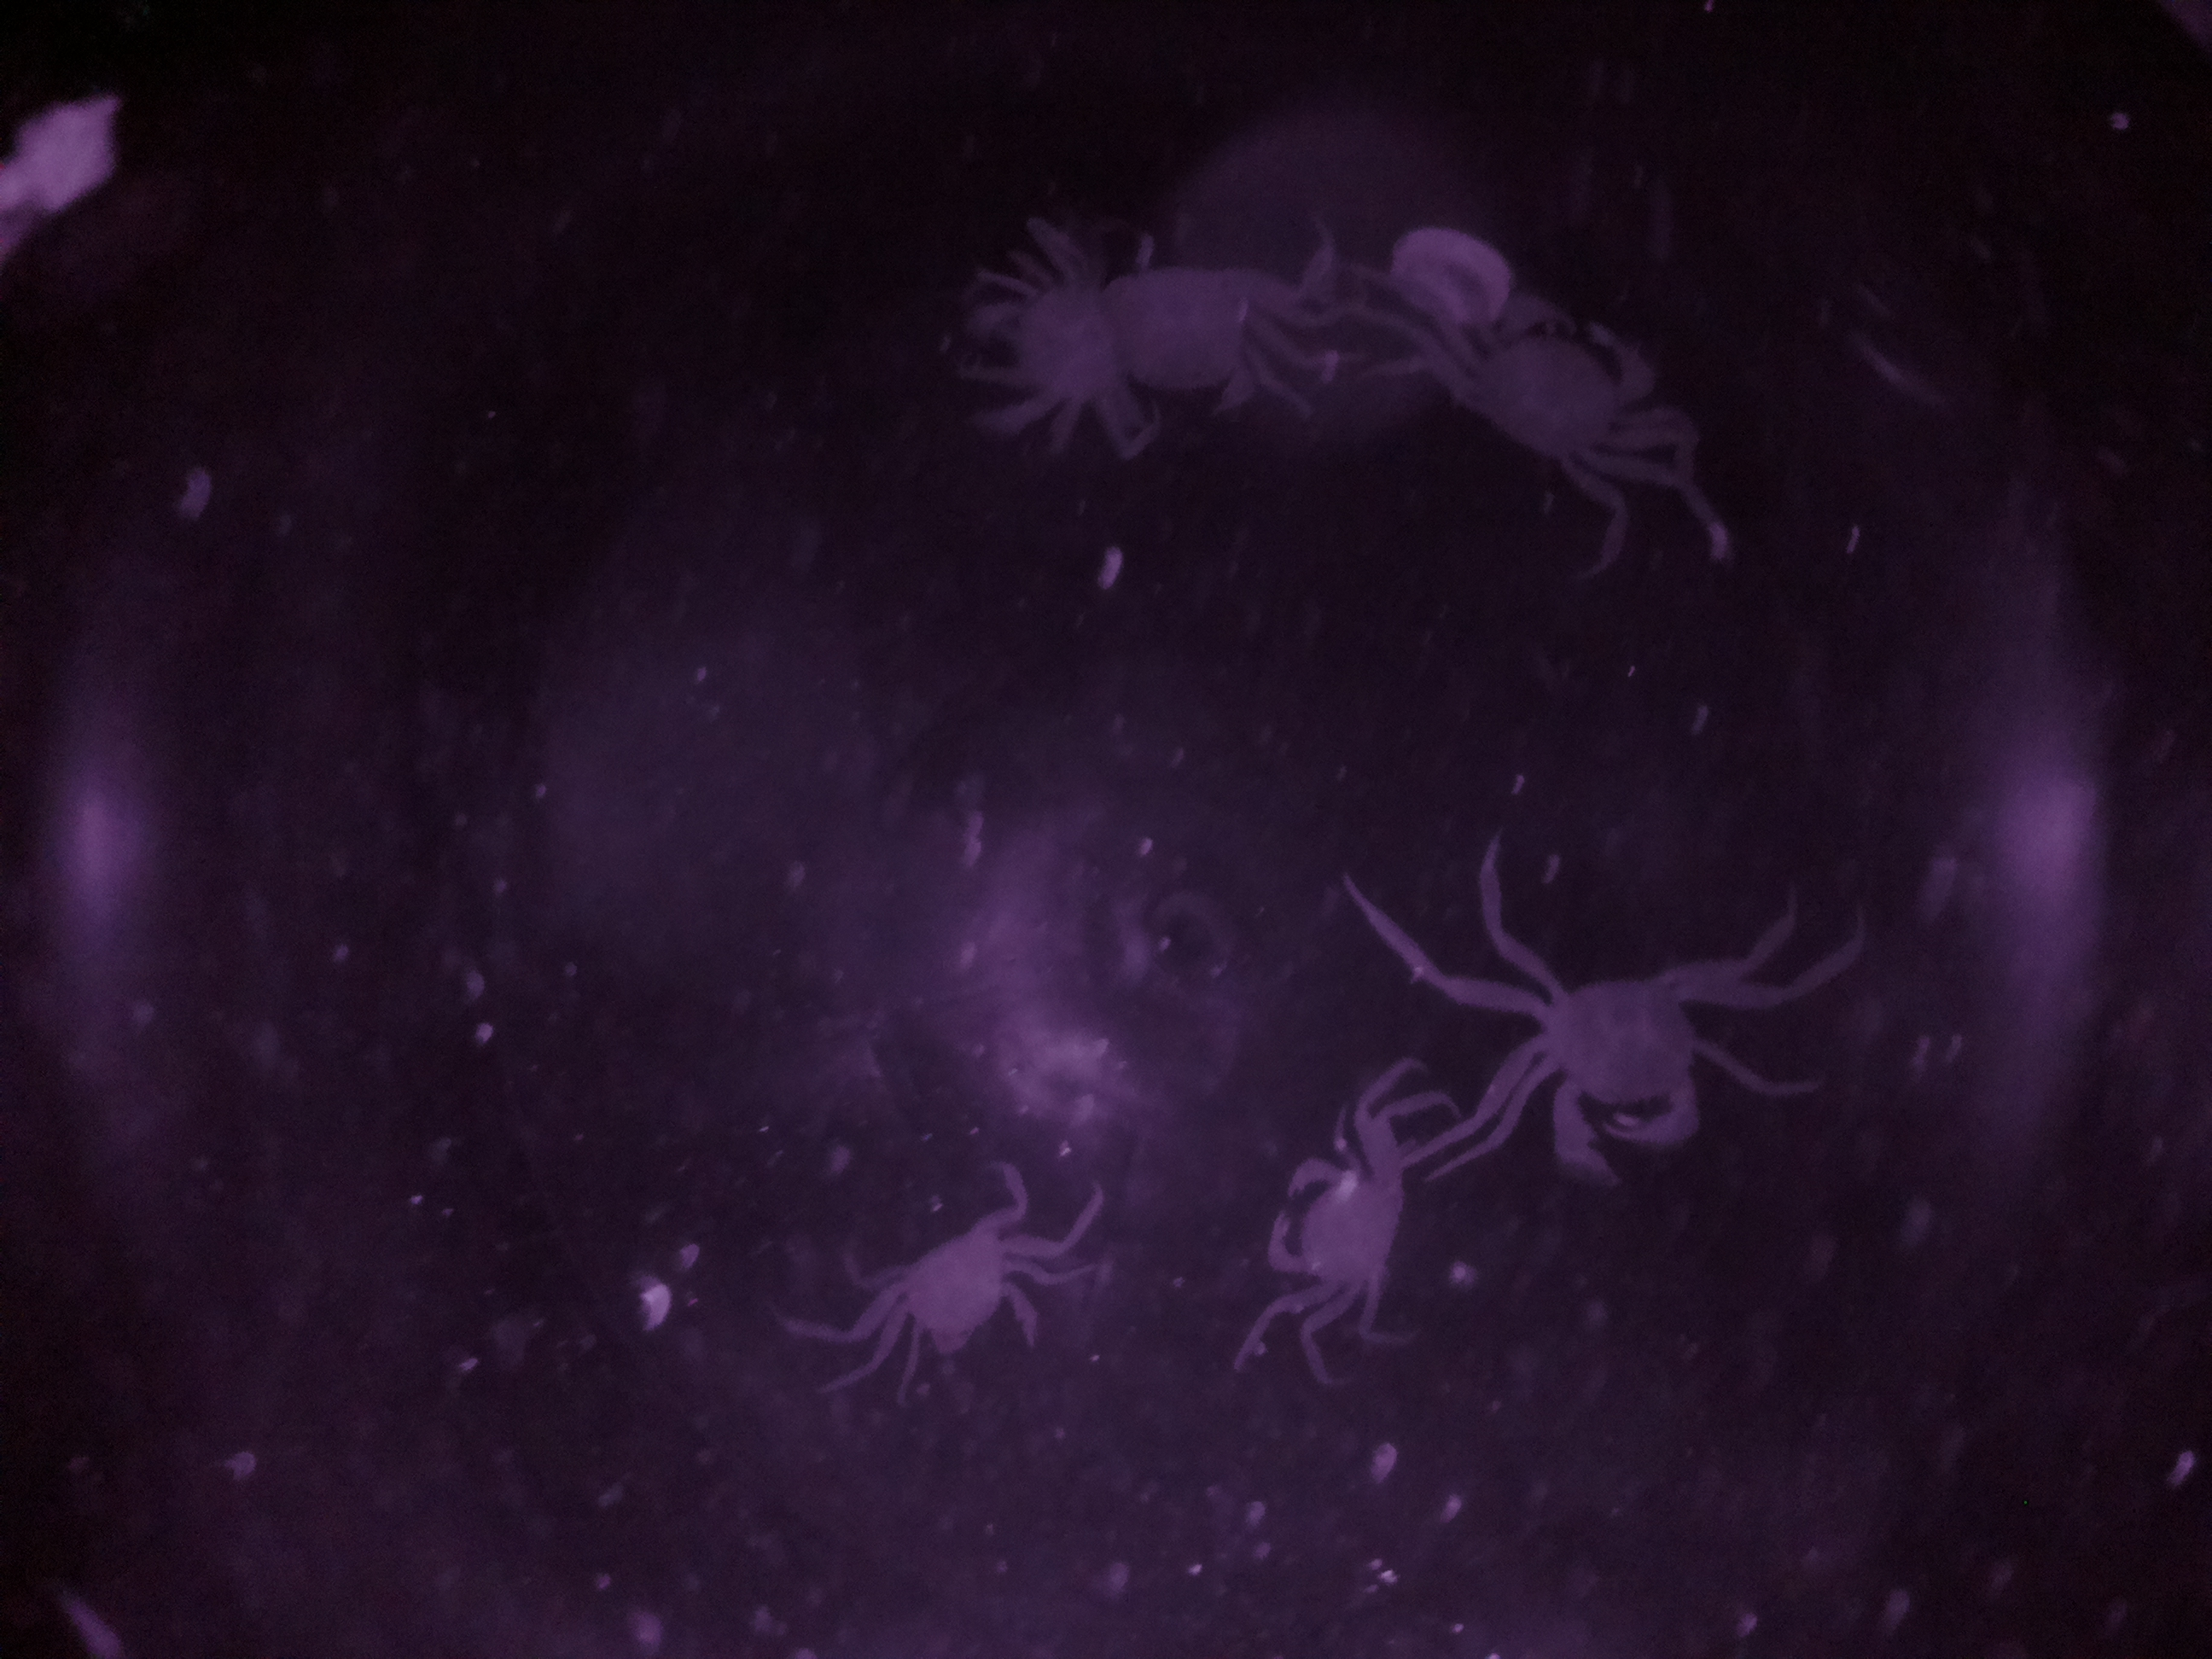Crab: (1461, 929, 1792, 1209), (834, 1195, 1080, 1405), (1254, 1108, 1447, 1333)
